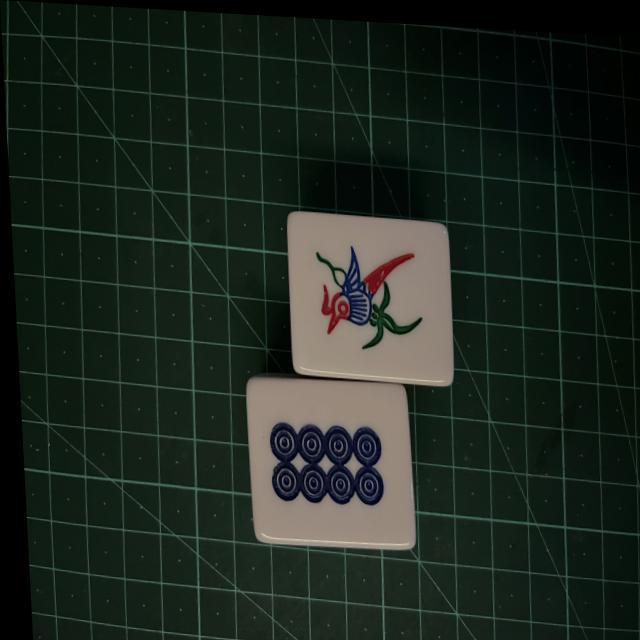s1: (293, 222, 448, 380)
t8: (251, 372, 419, 549)
